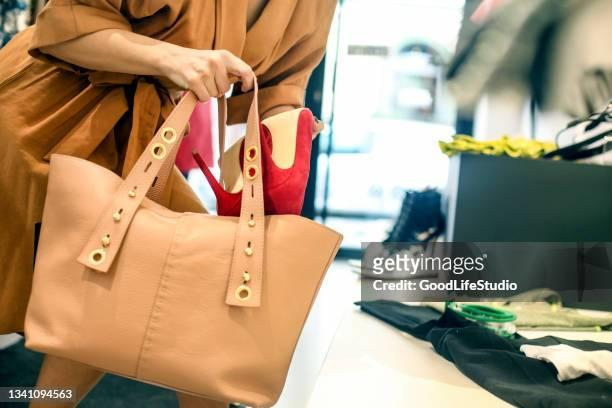shoplifting: (17, 18, 335, 399)
